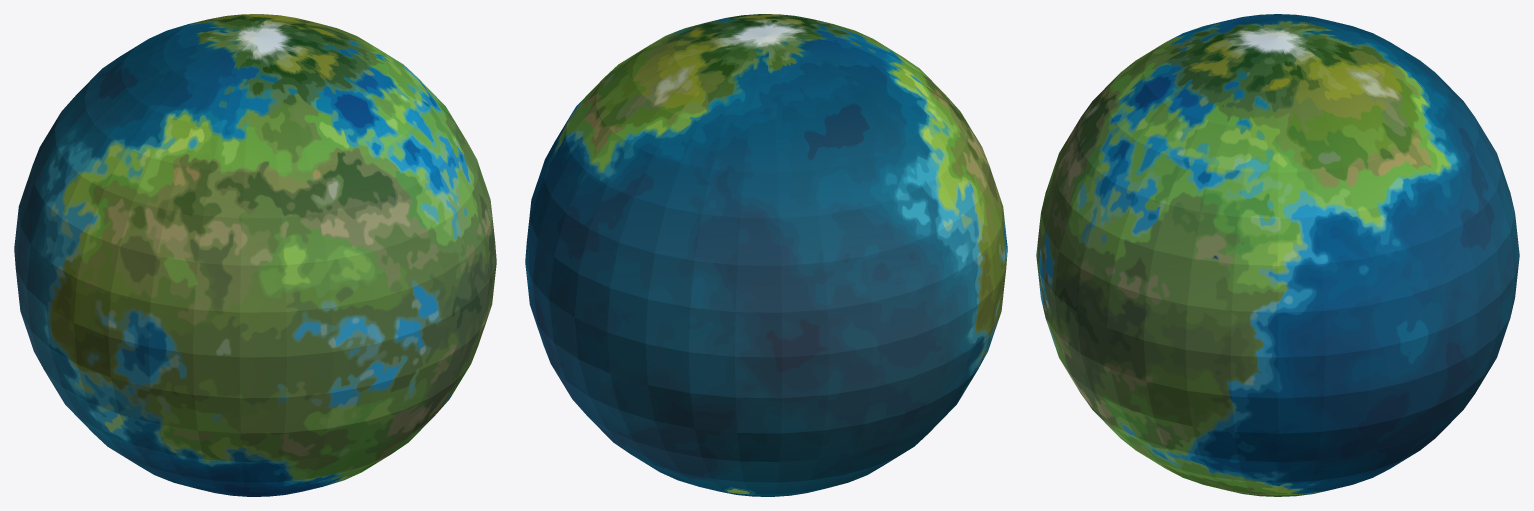
File: EarthModel2.fbx
3 renders of one model, left to right at view 1: azimuth 30°, elevation 25°; view 2: azimuth 150°, elevation 25°; view 3: azimuth 270°, elevation 25°, orthographic.
Visible parts, largest first — view 1: Sphere; view 2: Sphere; view 3: Sphere.
Part boxes in pixels (box(x1,y1,x2,y2)): Sphere: box(14, 14, 496, 496); Sphere: box(525, 14, 1007, 496); Sphere: box(1036, 14, 1519, 496).
Bounding box in the file's own units: 200 × 200 × 200.
Materials: 1 (1 with a texture image).
